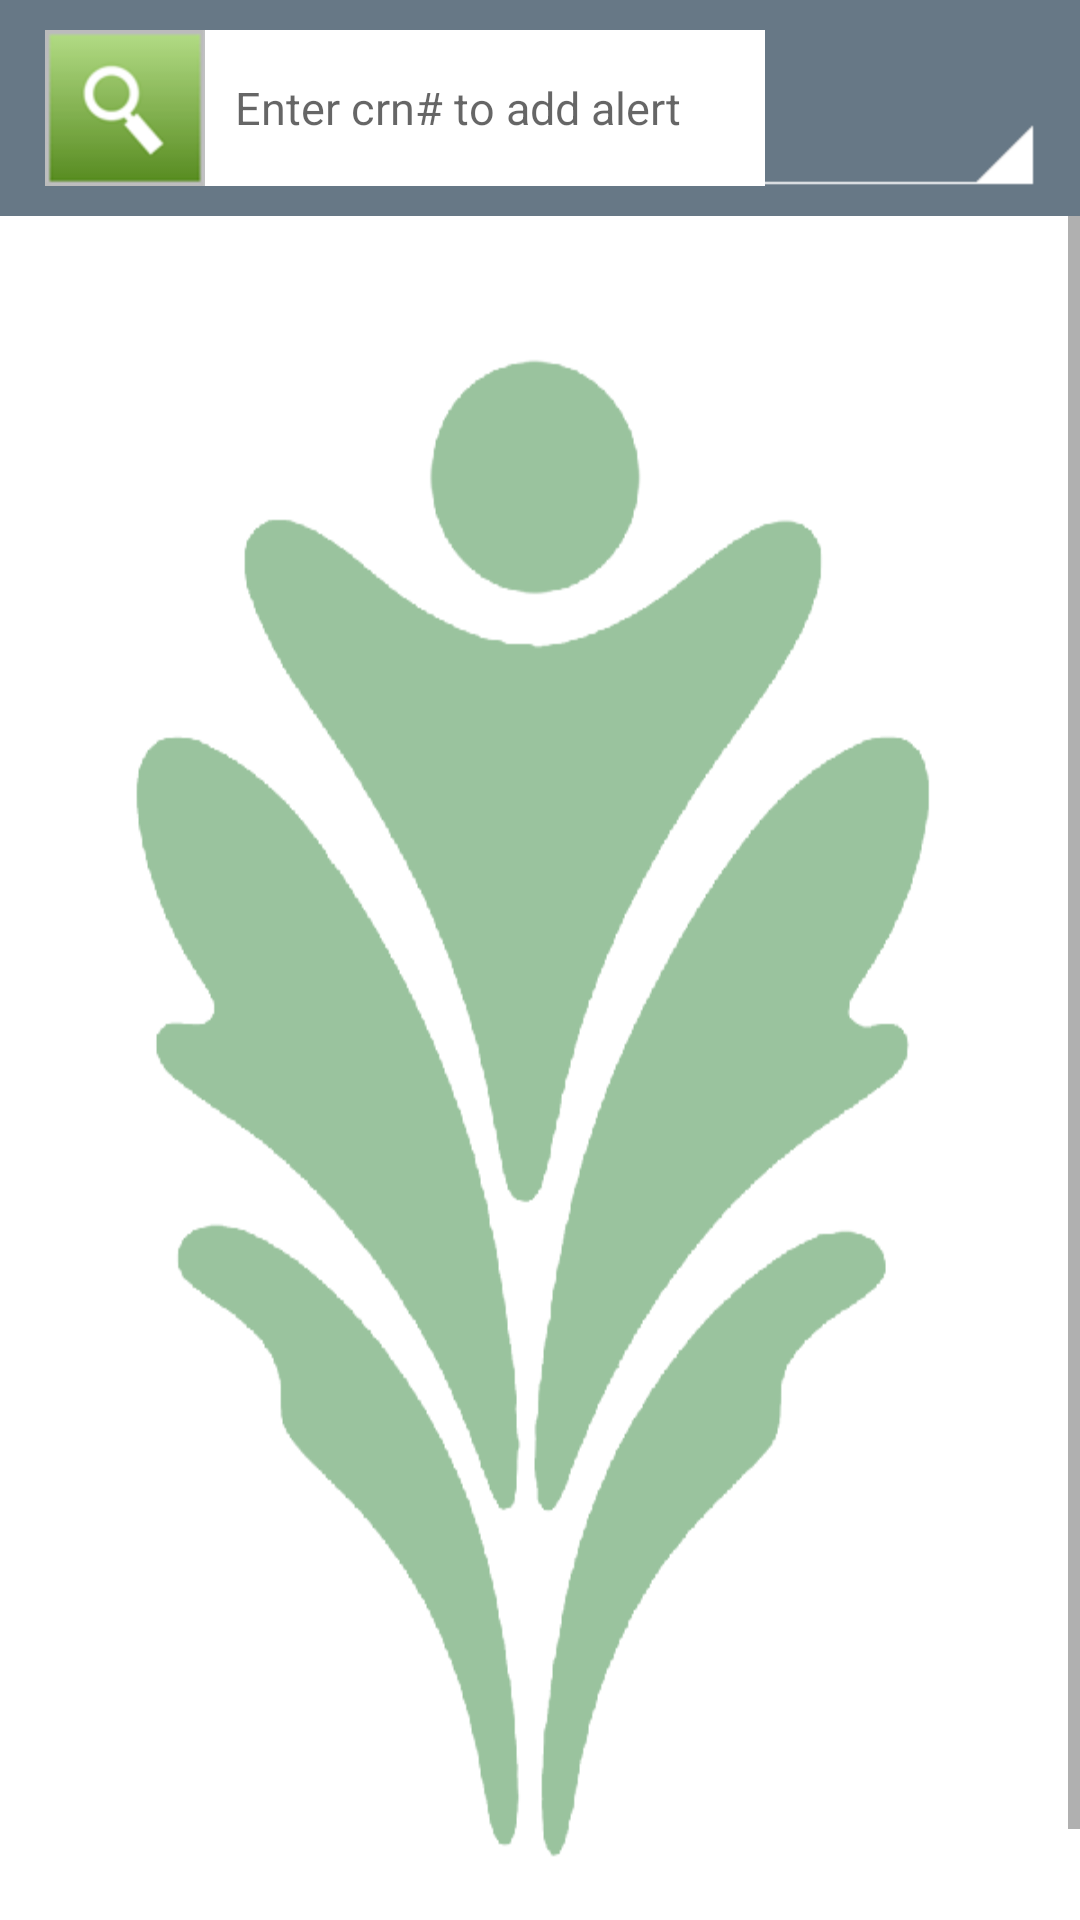

Point at icon controls on the screen. Image size 1080*1920, points as point (x, y).
Enter Search: point (125, 108)
